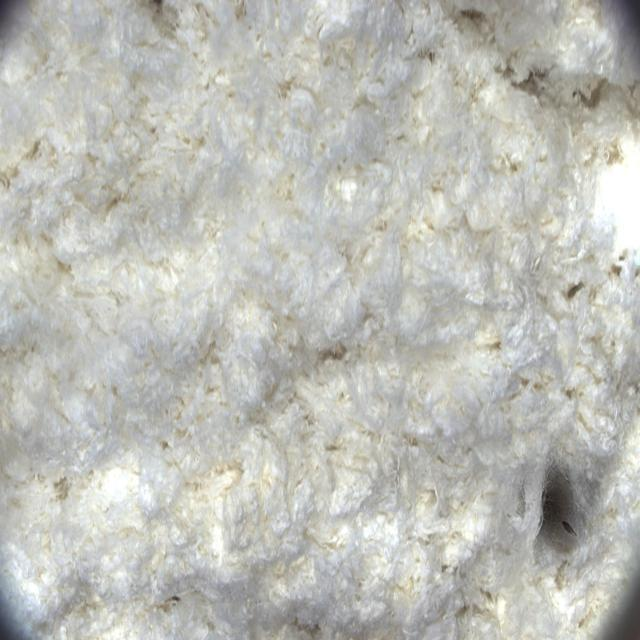dust: (492, 417, 634, 591)
